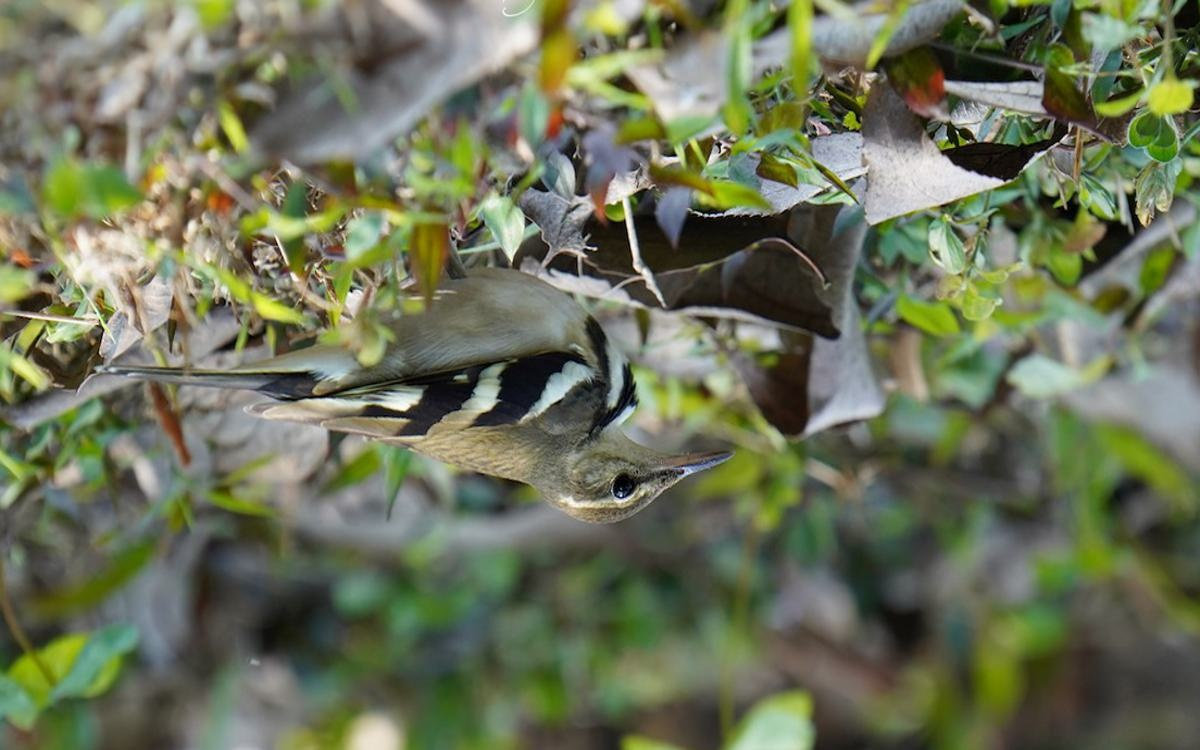wagtail: (126, 238, 769, 541)
